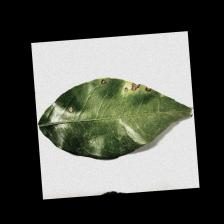canker: (49, 62, 157, 110)
